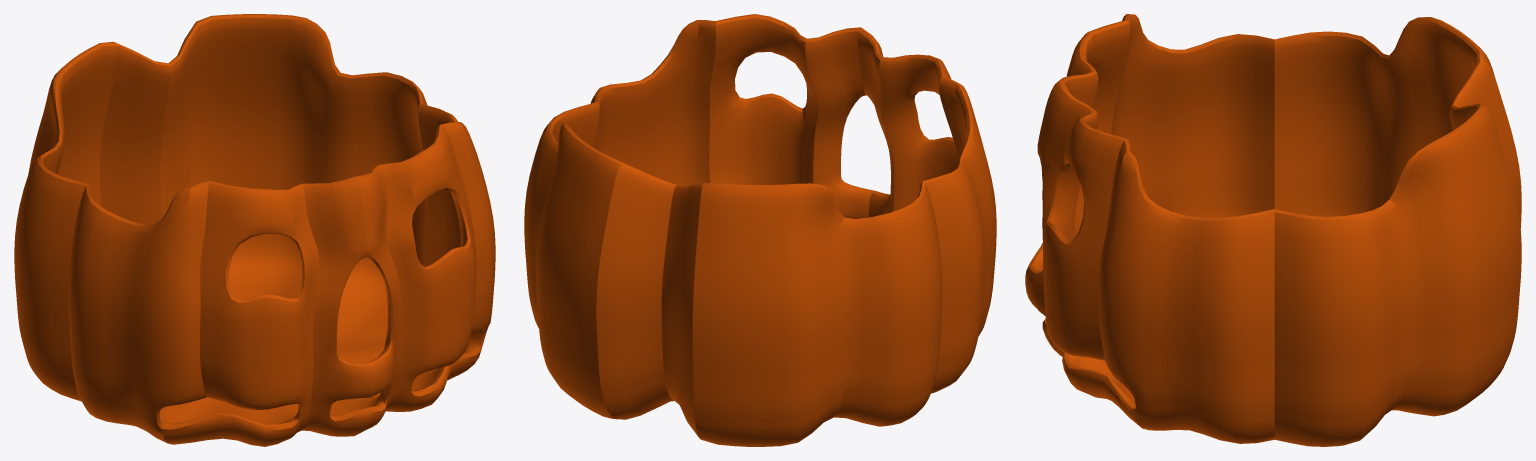
The model's file is Cushaw.obj.
3 views of the same model, side by side, from view 1: azimuth 30°, elevation 25°; view 2: azimuth 150°, elevation 25°; view 3: azimuth 270°, elevation 25° (orthographic). The views are drawn at different scales.
Parts seen in each view (by area): view 1: samor_2486_08; view 2: samor_2486_08; view 3: samor_2486_08.
Boxes of the visible parts, bbox=[...] form: samor_2486_08: bbox=[14, 14, 495, 446]; samor_2486_08: bbox=[524, 14, 996, 446]; samor_2486_08: bbox=[1025, 14, 1521, 446].
Bounding box in the file's own units: 329 × 214 × 331.
